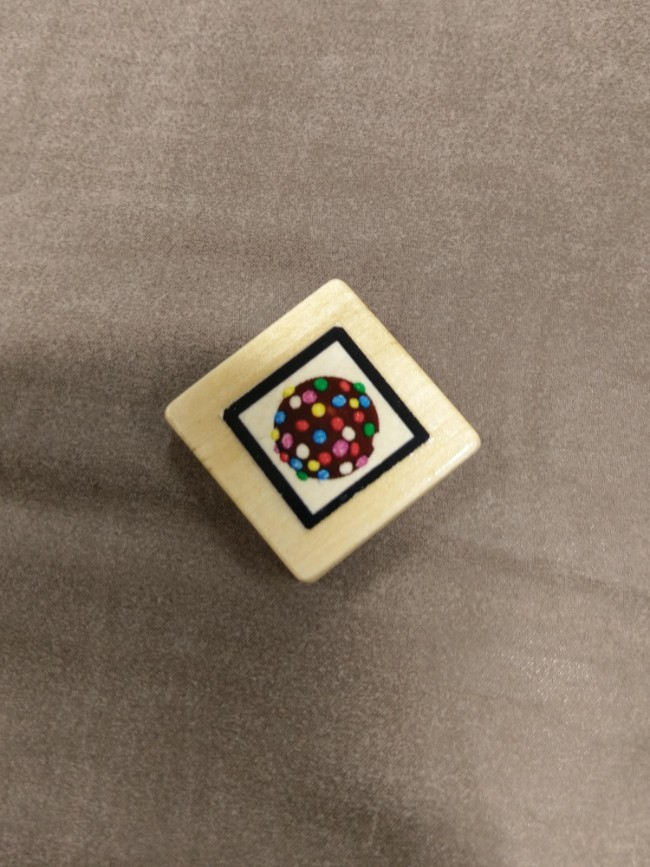cookie: (236, 338, 417, 517)
